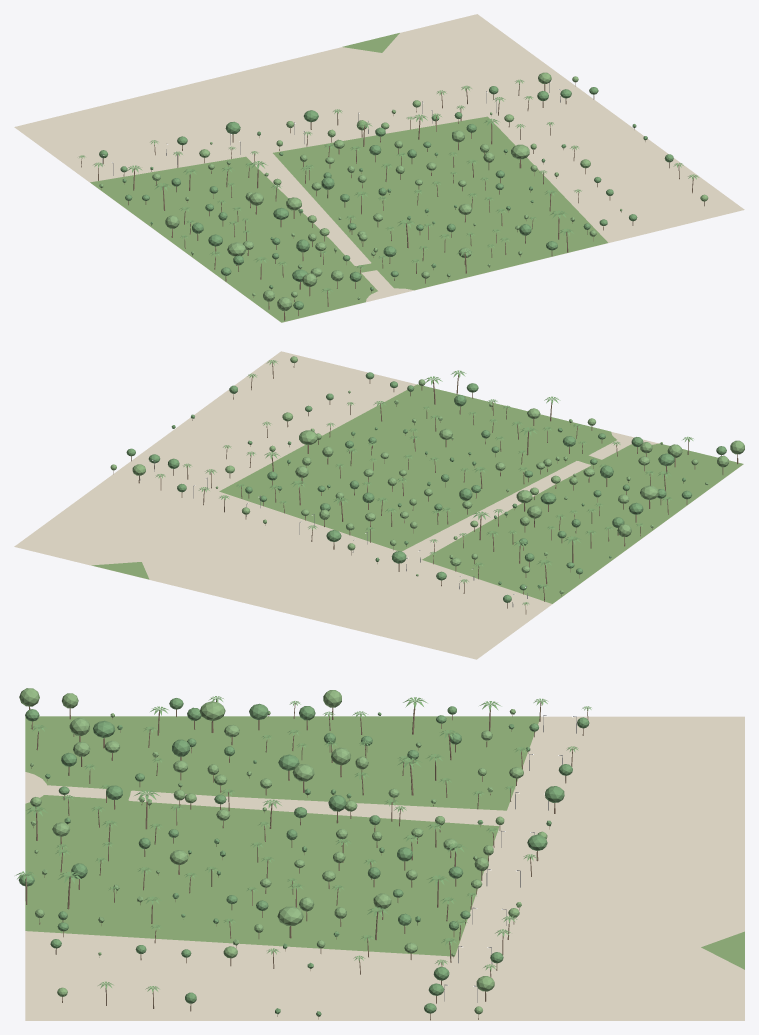
The model's file is nature_2_-4.glb.
3 renders of one model, top to bottom at view 1: azimuth 30°, elevation 25°; view 2: azimuth 150°, elevation 25°; view 3: azimuth 270°, elevation 25°, orthographic. The views are drawn at different scales.
Visible parts, largest first — view 1: ground, grass, foliage_b, foliage_a, palm_leaf, trunk; view 2: ground, grass, foliage_b, foliage_a, palm_leaf, trunk; view 3: ground, grass, foliage_b, foliage_a, palm_leaf, trunk.
Part boxes in pixels (left/top/right/bottom): ground: left=14, top=14, right=744, bottom=322; grass: left=90, top=33, right=607, bottom=322; foliage_b: left=99, top=72, right=708, bottom=310; foliage_a: left=99, top=86, right=673, bottom=309; palm_leaf: left=79, top=79, right=699, bottom=293; trunk: left=81, top=82, right=704, bottom=320; ground: left=14, top=351, right=740, bottom=659; grass: left=91, top=384, right=743, bottom=603; foliage_b: left=110, top=356, right=744, bottom=593; foliage_a: left=126, top=372, right=726, bottom=602; palm_leaf: left=155, top=360, right=693, bottom=605; trunk: left=113, top=362, right=738, bottom=614; ground: left=25, top=716, right=744, bottom=1020; grass: left=25, top=716, right=744, bottom=969; foliage_b: left=19, top=688, right=547, bottom=1014; foliage_a: left=18, top=698, right=589, bottom=1016; palm_leaf: left=15, top=696, right=591, bottom=992; trunk: left=25, top=699, right=588, bottom=1020.
Size of the model in its own units: 254 by 13.57 by 254.
